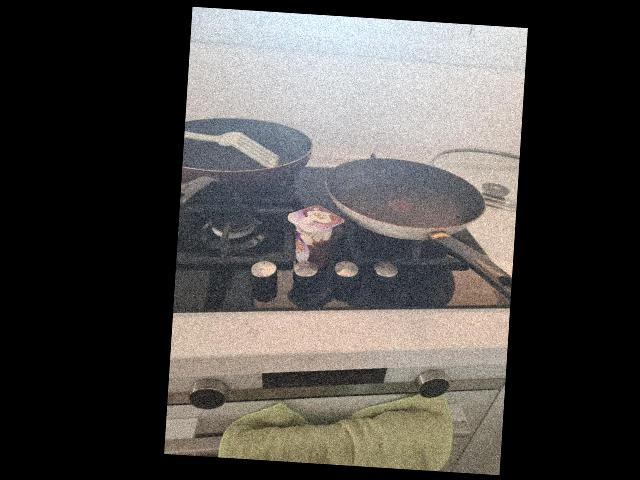milky: (285, 205, 349, 267)
